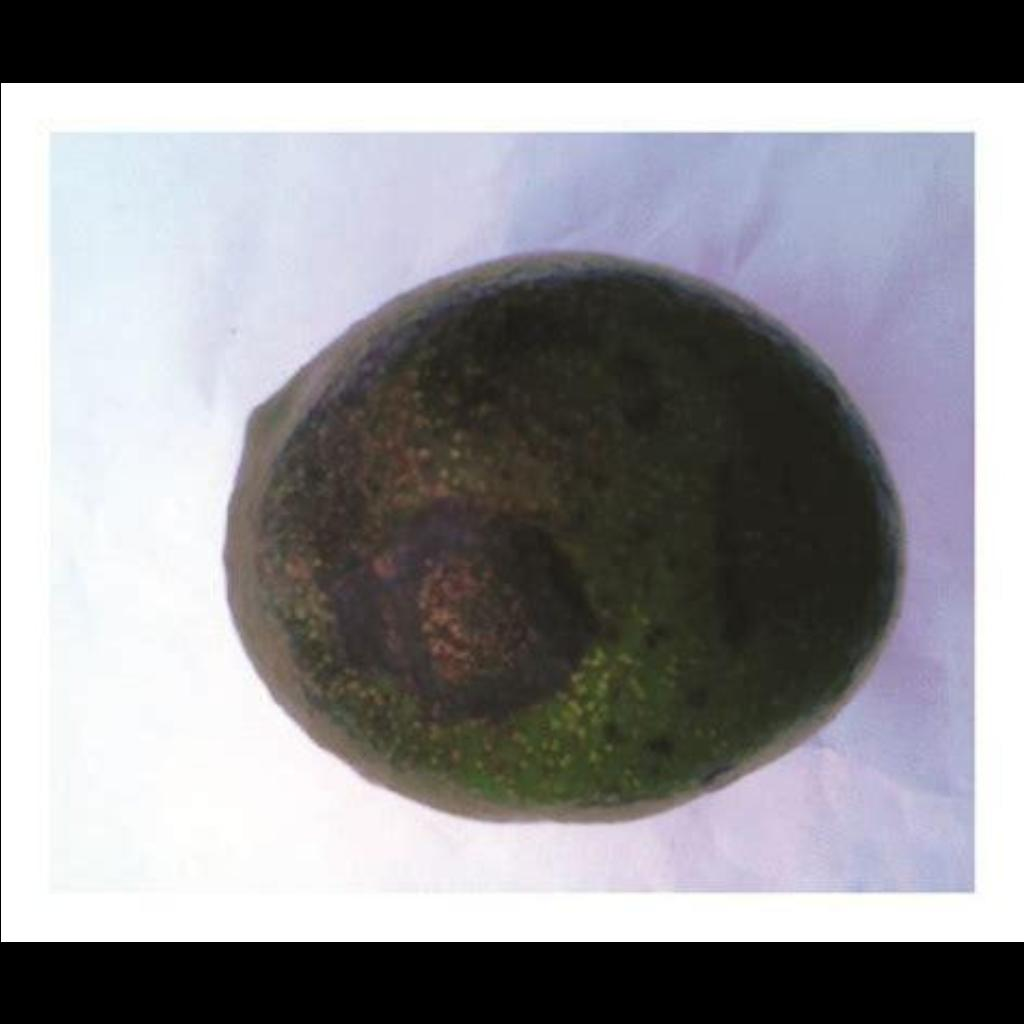antracnosis_fruto: (196, 303, 889, 828)
